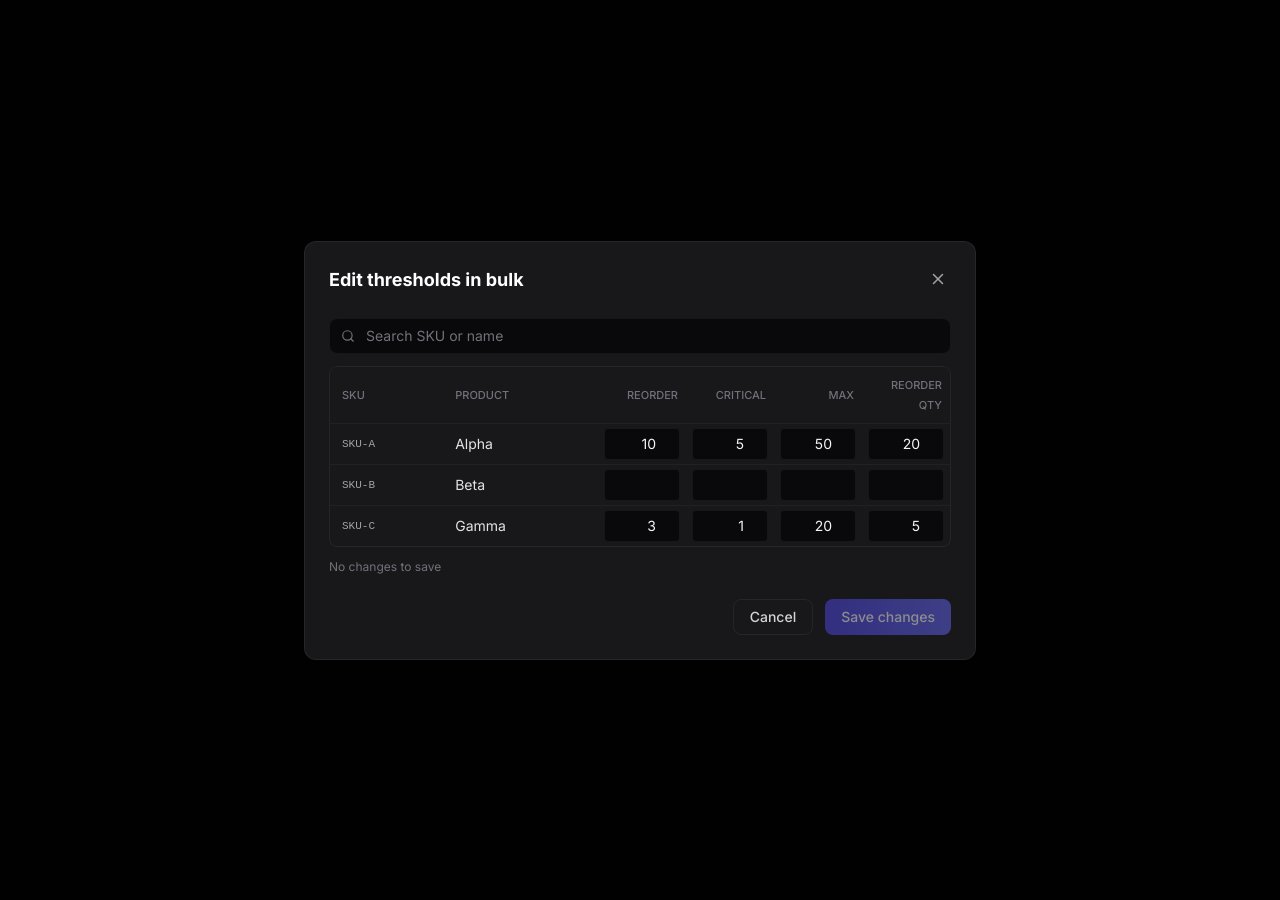
Test: BulkThresholdsModal › save is disabled until something changes
Expected: the button with test id "bulk-thresholds-save" is disabled, [825,598,951,634]
Expected: the text "No changes to save" is shown, [329,558,441,574]
Replace the text in the number field with test id "bulk-reorder_threshold-pm-1" with "12": (642, 444) [604,428,680,460]
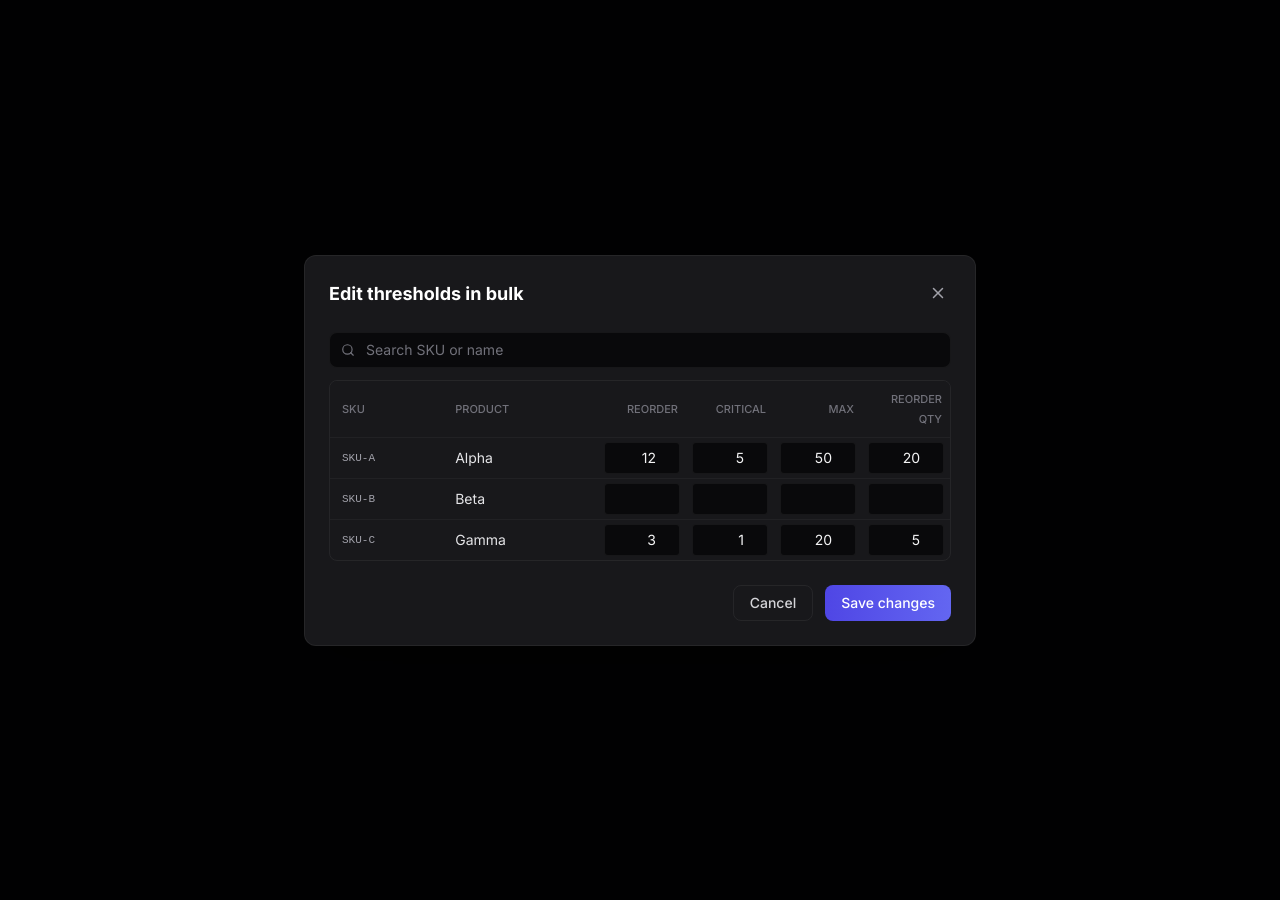
Expected: the button with test id "bulk-thresholds-save" is enabled, [825,584,951,620]
